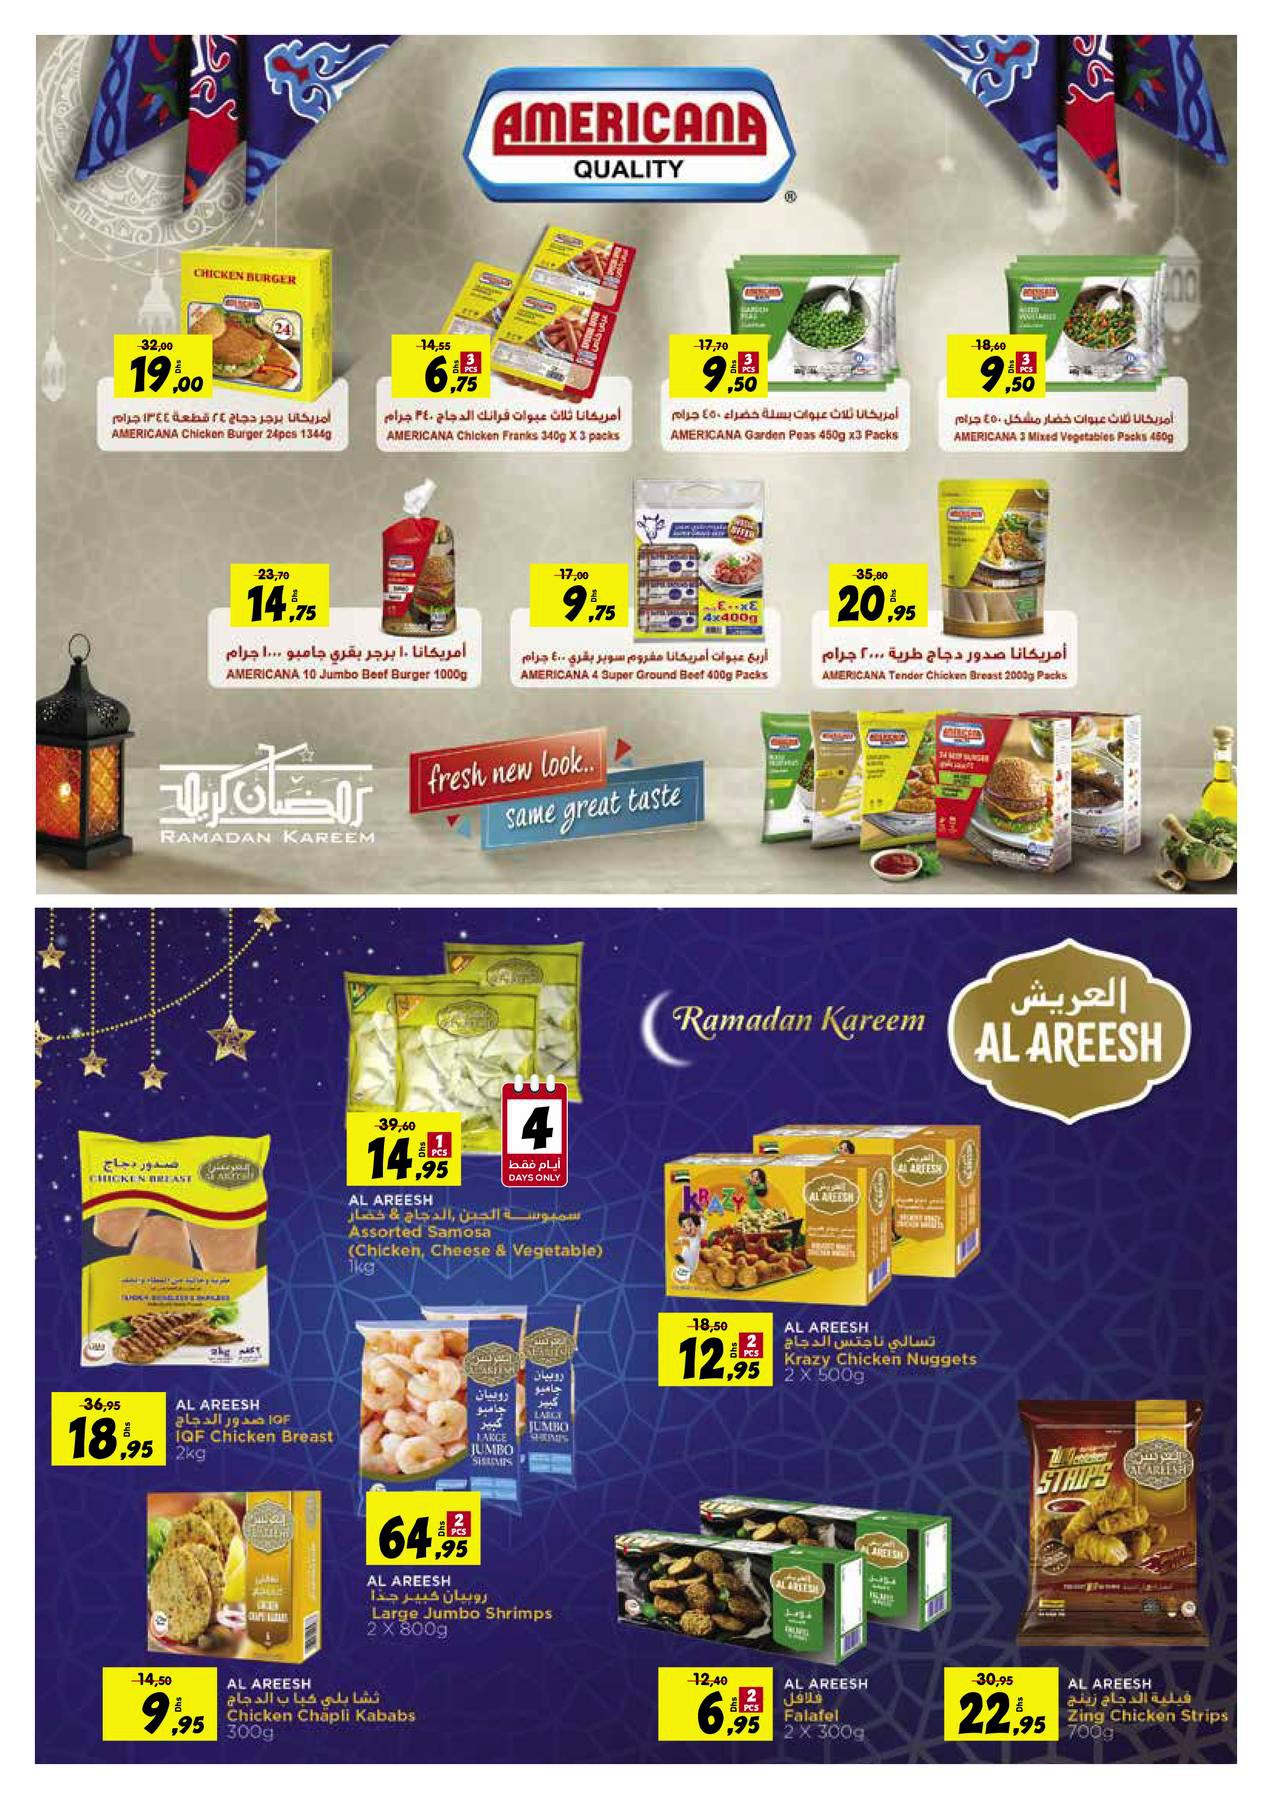text: (338, 1189, 609, 1284), (776, 1312, 999, 1390), (360, 1569, 563, 1651), (220, 1671, 426, 1748), (1061, 1668, 1233, 1752), (169, 1388, 338, 1471), (218, 640, 482, 687), (816, 640, 1077, 686), (664, 402, 909, 450), (942, 405, 1186, 453), (380, 404, 631, 450), (513, 645, 781, 687), (106, 404, 343, 449), (776, 1669, 891, 1748)
